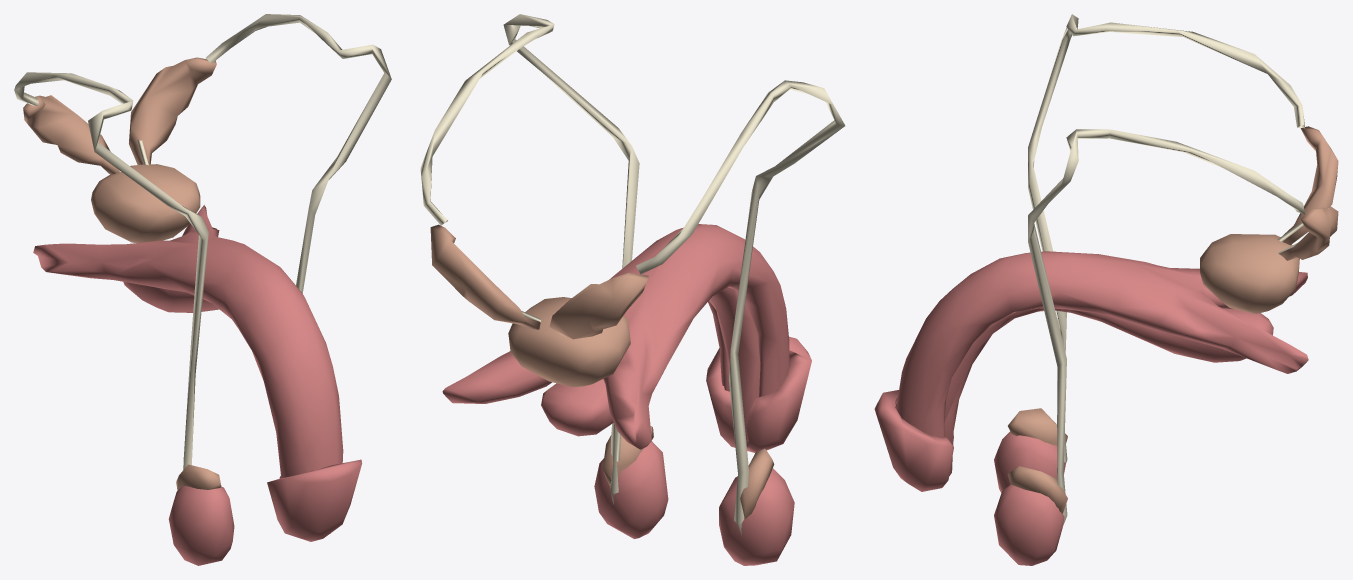
The model's file is adult_male.reproductive.LOD4.glb.
3 views of the same model, side by side, from view 1: azimuth 30°, elevation 25°; view 2: azimuth 150°, elevation 25°; view 3: azimuth 270°, elevation 25° (orthographic). The views are drawn at different scales.
Parts seen in each view (by area): view 1: ADULT.MALE.REPRODUCTIVE.CORPUS_CAVERNOSUM_OF_PENIS, ADULT.MALE.REPRODUCTIVE.PROSTATE, ADULT.MALE.REPRODUCTIVE.DUCTUS_DEFERENS.R, ADULT.MALE.REPRODUCTIVE.GLANS_PENIS, ADULT.MALE.REPRODUCTIVE.SEMINAL_GLAND.L, ADULT.MALE.REPRODUCTIVE.DUCTUS_DEFERENS.L, ADULT.MALE.REPRODUCTIVE.TESTIS, ADULT.MALE.REPRODUCTIVE.SEMINAL_GLAND.R, ADULT.MALE.REPRODUCTIVE.CORPUS_SPONGIOSUM_OF_PENIS, ADULT.MALE.REPRODUCTIVE.EPIDIDYMIS.R; view 2: ADULT.MALE.REPRODUCTIVE.CORPUS_CAVERNOSUM_OF_PENIS, ADULT.MALE.REPRODUCTIVE.DUCTUS_DEFERENS.R, ADULT.MALE.REPRODUCTIVE.DUCTUS_DEFERENS.L, ADULT.MALE.REPRODUCTIVE.PROSTATE, ADULT.MALE.REPRODUCTIVE.CORPUS_SPONGIOSUM_OF_PENIS, ADULT.MALE.REPRODUCTIVE.GLANS_PENIS, ADULT.MALE.REPRODUCTIVE.TESTIS, ADULT.MALE.REPRODUCTIVE.TESTIS.L, ADULT.MALE.REPRODUCTIVE.SEMINAL_GLAND.R, ADULT.MALE.REPRODUCTIVE.SEMINAL_GLAND.L, ADULT.MALE.REPRODUCTIVE.EPIDIDYMIS.R, ADULT.MALE.REPRODUCTIVE.EPIDIDYMIS.L; view 3: ADULT.MALE.REPRODUCTIVE.CORPUS_CAVERNOSUM_OF_PENIS, ADULT.MALE.REPRODUCTIVE.PROSTATE, ADULT.MALE.REPRODUCTIVE.DUCTUS_DEFERENS.L, ADULT.MALE.REPRODUCTIVE.DUCTUS_DEFERENS.R, ADULT.MALE.REPRODUCTIVE.CORPUS_SPONGIOSUM_OF_PENIS, ADULT.MALE.REPRODUCTIVE.TESTIS.L, ADULT.MALE.REPRODUCTIVE.GLANS_PENIS, ADULT.MALE.REPRODUCTIVE.TESTIS, ADULT.MALE.REPRODUCTIVE.SEMINAL_GLAND.R, ADULT.MALE.REPRODUCTIVE.SEMINAL_GLAND.L, ADULT.MALE.REPRODUCTIVE.EPIDIDYMIS.R, ADULT.MALE.REPRODUCTIVE.EPIDIDYMIS.L.
Part boxes in pixels (box(x1,y1,x2,y2)): ADULT.MALE.REPRODUCTIVE.CORPUS_CAVERNOSUM_OF_PENIS: box(33, 205, 343, 478); ADULT.MALE.REPRODUCTIVE.PROSTATE: box(91, 164, 200, 242); ADULT.MALE.REPRODUCTIVE.DUCTUS_DEFERENS.R: box(14, 72, 208, 469); ADULT.MALE.REPRODUCTIVE.GLANS_PENIS: box(267, 459, 362, 541); ADULT.MALE.REPRODUCTIVE.SEMINAL_GLAND.L: box(129, 57, 216, 164); ADULT.MALE.REPRODUCTIVE.DUCTUS_DEFERENS.L: box(206, 14, 391, 293); ADULT.MALE.REPRODUCTIVE.TESTIS: box(168, 486, 234, 565); ADULT.MALE.REPRODUCTIVE.SEMINAL_GLAND.R: box(23, 95, 119, 174); ADULT.MALE.REPRODUCTIVE.CORPUS_SPONGIOSUM_OF_PENIS: box(123, 282, 219, 312); ADULT.MALE.REPRODUCTIVE.EPIDIDYMIS.R: box(176, 464, 221, 490); ADULT.MALE.REPRODUCTIVE.CORPUS_CAVERNOSUM_OF_PENIS: box(442, 224, 789, 449); ADULT.MALE.REPRODUCTIVE.DUCTUS_DEFERENS.R: box(636, 80, 845, 535); ADULT.MALE.REPRODUCTIVE.DUCTUS_DEFERENS.L: box(420, 14, 639, 504); ADULT.MALE.REPRODUCTIVE.PROSTATE: box(508, 297, 630, 386); ADULT.MALE.REPRODUCTIVE.CORPUS_SPONGIOSUM_OF_PENIS: box(541, 287, 760, 447); ADULT.MALE.REPRODUCTIVE.GLANS_PENIS: box(706, 336, 811, 452); ADULT.MALE.REPRODUCTIVE.TESTIS: box(719, 468, 794, 565); ADULT.MALE.REPRODUCTIVE.TESTIS.L: box(594, 441, 668, 538); ADULT.MALE.REPRODUCTIVE.SEMINAL_GLAND.R: box(549, 272, 648, 339); ADULT.MALE.REPRODUCTIVE.SEMINAL_GLAND.L: box(430, 224, 540, 329); ADULT.MALE.REPRODUCTIVE.EPIDIDYMIS.R: box(740, 448, 774, 518); ADULT.MALE.REPRODUCTIVE.EPIDIDYMIS.L: box(603, 426, 653, 485); ADULT.MALE.REPRODUCTIVE.CORPUS_CAVERNOSUM_OF_PENIS: box(896, 251, 1308, 438); ADULT.MALE.REPRODUCTIVE.PROSTATE: box(1200, 234, 1299, 313); ADULT.MALE.REPRODUCTIVE.DUCTUS_DEFERENS.L: box(1028, 129, 1305, 527); ADULT.MALE.REPRODUCTIVE.DUCTUS_DEFERENS.R: box(1028, 14, 1304, 463); ADULT.MALE.REPRODUCTIVE.CORPUS_SPONGIOSUM_OF_PENIS: box(944, 308, 1273, 475); ADULT.MALE.REPRODUCTIVE.TESTIS.L: box(994, 484, 1064, 565); ADULT.MALE.REPRODUCTIVE.GLANS_PENIS: box(874, 390, 953, 491); ADULT.MALE.REPRODUCTIVE.TESTIS: box(994, 431, 1065, 492); ADULT.MALE.REPRODUCTIVE.SEMINAL_GLAND.R: box(1282, 126, 1338, 245); ADULT.MALE.REPRODUCTIVE.SEMINAL_GLAND.L: box(1279, 206, 1338, 260); ADULT.MALE.REPRODUCTIVE.EPIDIDYMIS.R: box(1008, 408, 1067, 445); ADULT.MALE.REPRODUCTIVE.EPIDIDYMIS.L: box(1007, 466, 1067, 513).
Size of the model in its own units: 0.1116 by 0.1657 by 0.1508.
